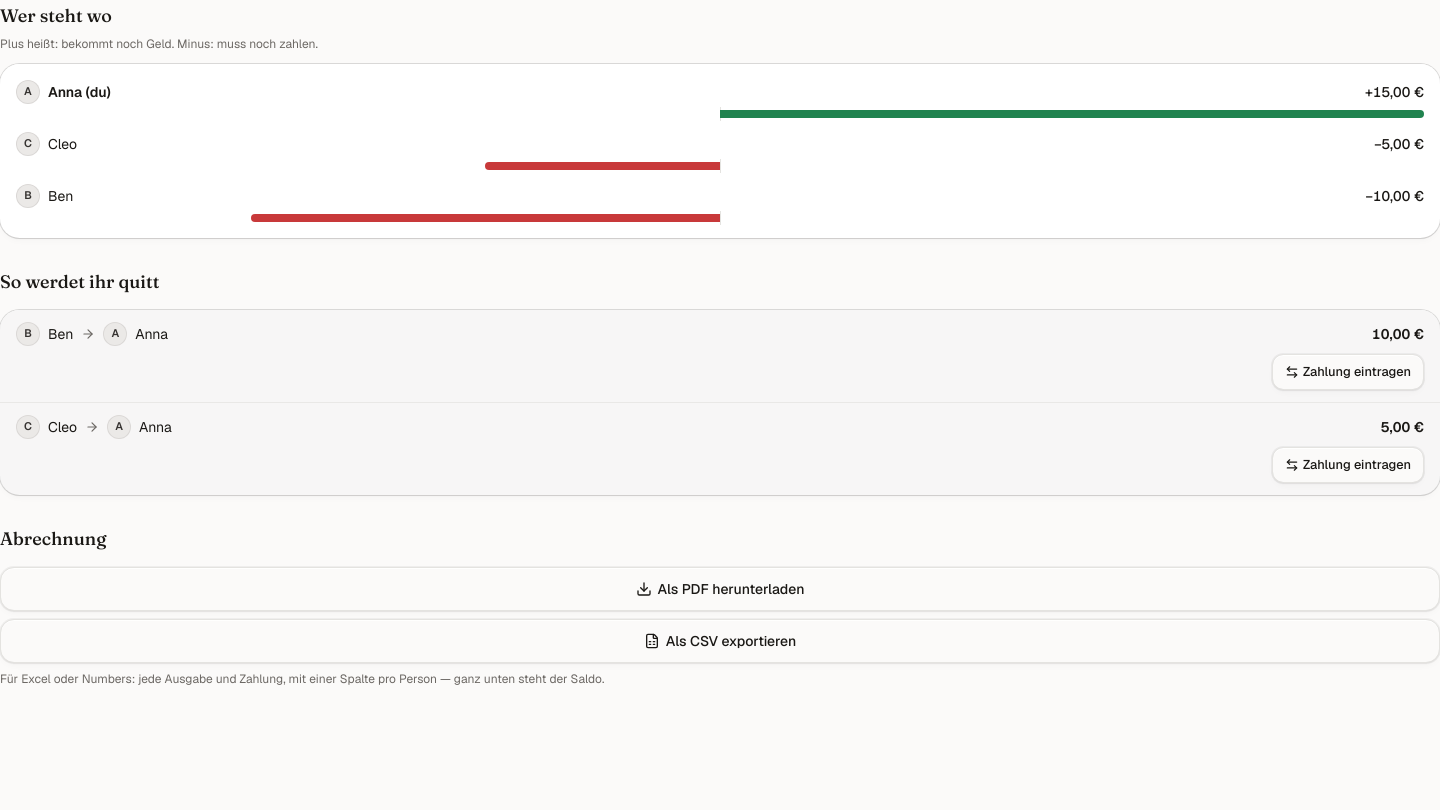
Test: BalancesTab — suggested transfers › starts the next transfer from its own numbers, not the form left over from the last
Click the button with aria-label "Zahlung eintragen: Ben an Anna": (1348, 372) left=1272, top=354, right=1424, bottom=390
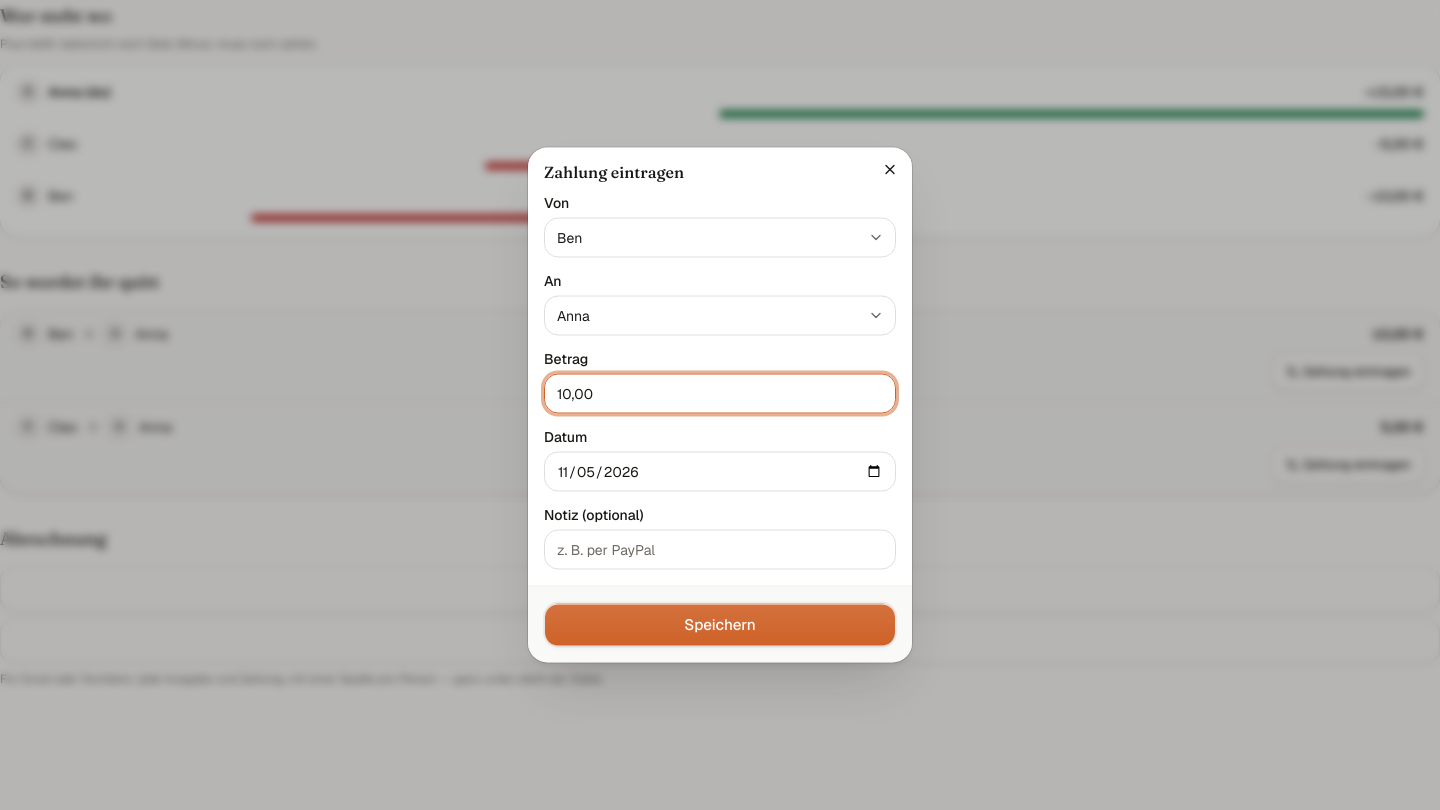
Result: the field labelled "Betrag" holds "10,00"
Press Escape in the field labelled "Betrag", box left=544, top=374, right=896, bottom=414
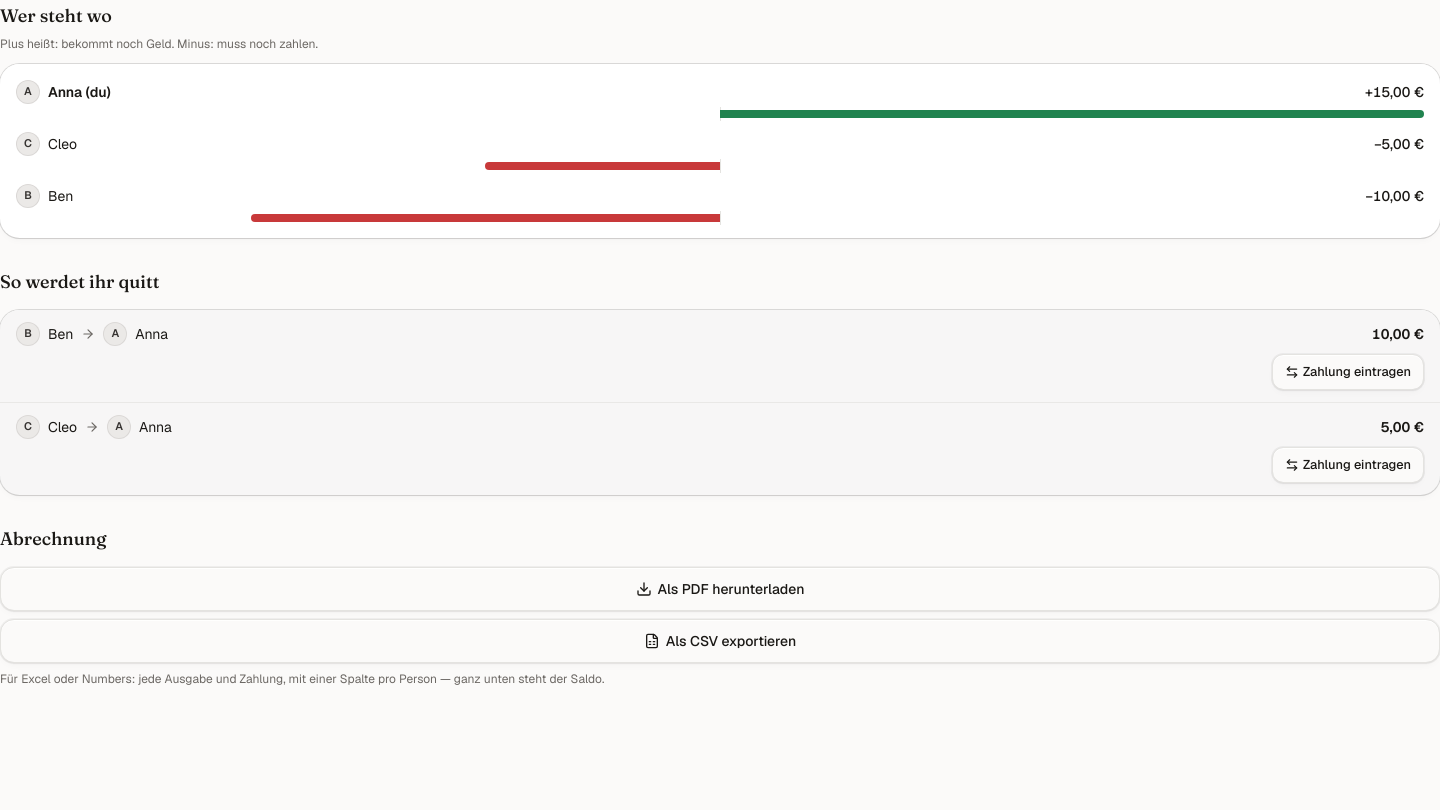
Result: the label labelled "Betrag" is gone
Click the button with aria-label "Zahlung eintragen: Cleo an Anna": (1348, 465) left=1272, top=447, right=1424, bottom=483
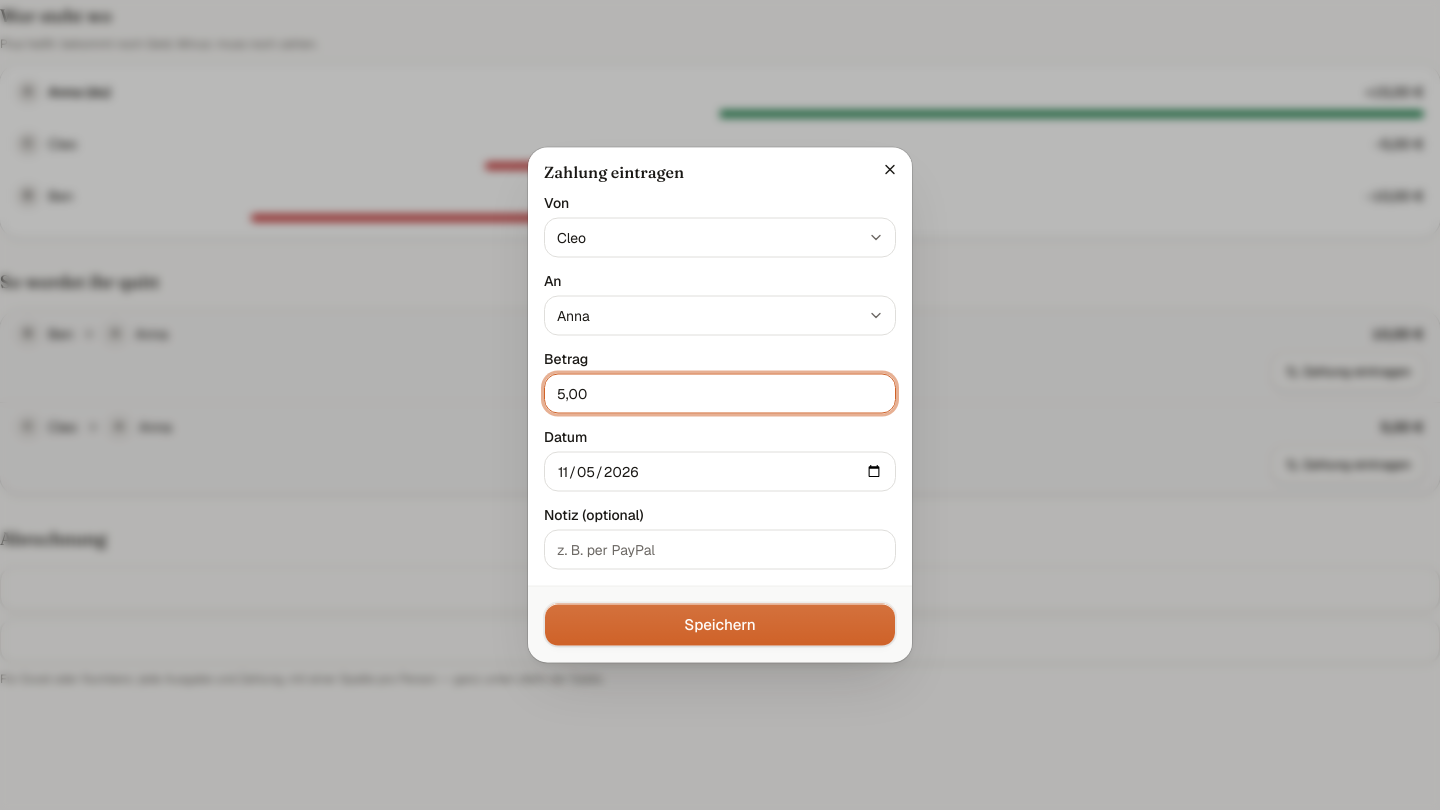
Result: the dropdown labelled "Von" shows "Cleo" at left=544, top=218, right=896, bottom=258
Result: the field labelled "Betrag" holds "5,00" at left=544, top=374, right=896, bottom=414
